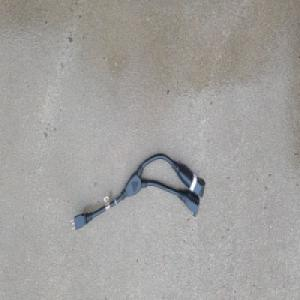Wire: (68, 151, 206, 232)
